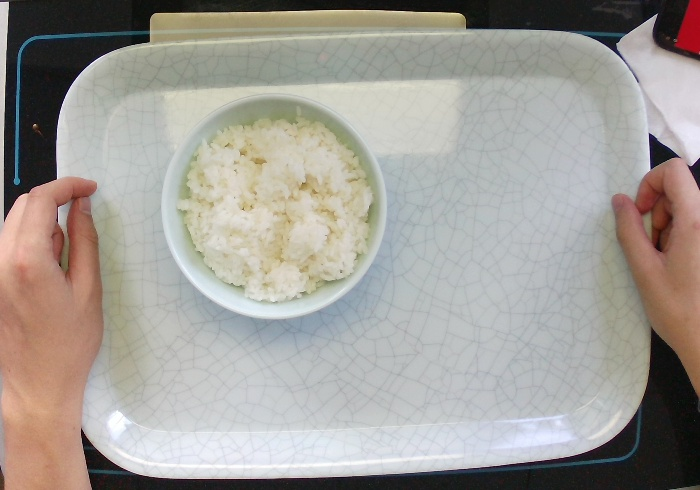JYsf-Fan_Wan: (156, 90, 391, 324)
